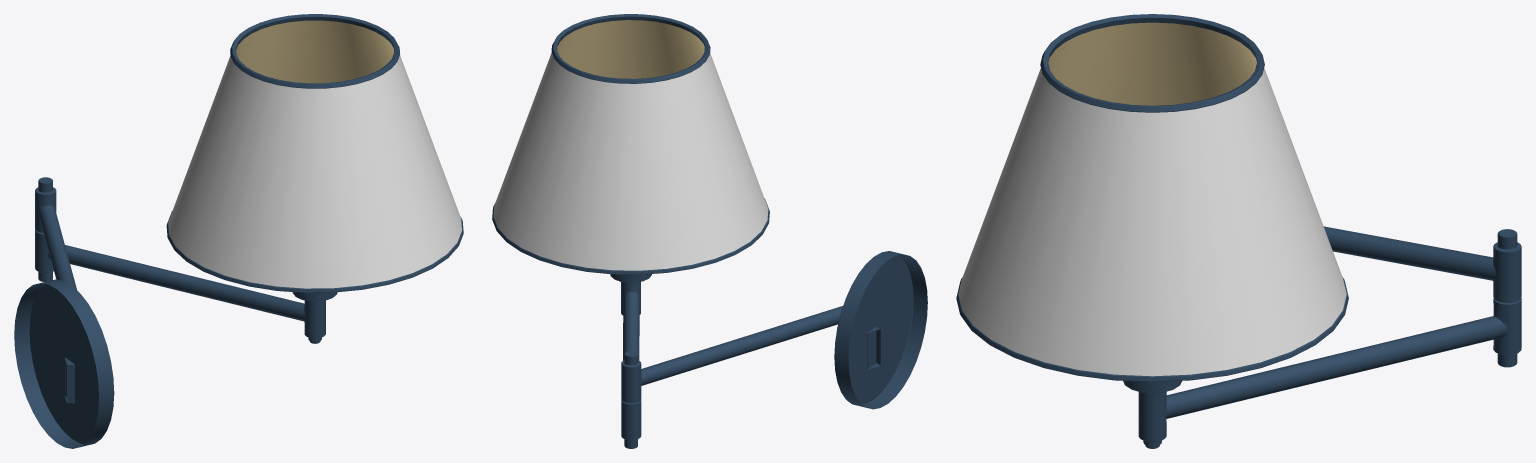
File: bedroom light.fbx
3 renders of one model, left to right at view 1: azimuth 30°, elevation 25°; view 2: azimuth 150°, elevation 25°; view 3: azimuth 270°, elevation 25°, orthographic. The views are drawn at different scales.
Parts seen in each view (by area): view 1: wall light.001; view 2: wall light.001; view 3: wall light.001.
Part boxes in pixels (x1=…): wall light.001: x1=14, y1=14, x2=463, y2=448; wall light.001: x1=492, y1=14, x2=927, y2=448; wall light.001: x1=956, y1=14, x2=1521, y2=448.
Bounding box in the file's own units: 58.57 × 45.66 × 54.97.
